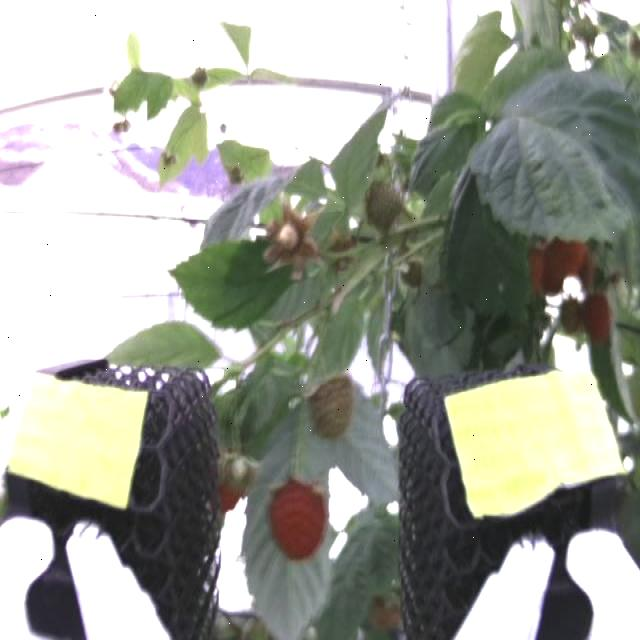Riped berries: (272, 473, 332, 558), (530, 229, 584, 295), (214, 451, 252, 514), (585, 290, 614, 346)
